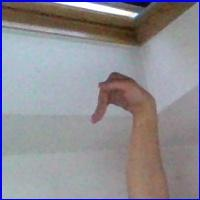del: (87, 68, 154, 132)
